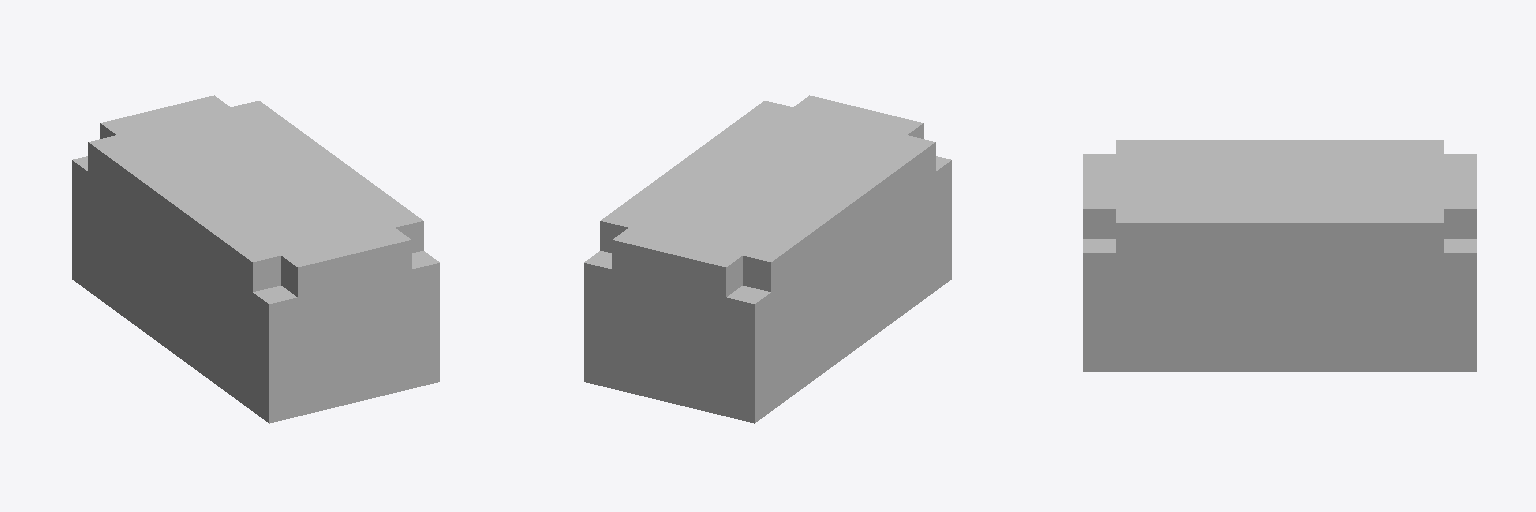
File: better gold.obj
The picture shows the model from 3 angles: view 1: azimuth 30°, elevation 25°; view 2: azimuth 150°, elevation 25°; view 3: azimuth 270°, elevation 25°; orthographic projection.
Bounding box in the file's own units: 6 × 5 × 12.